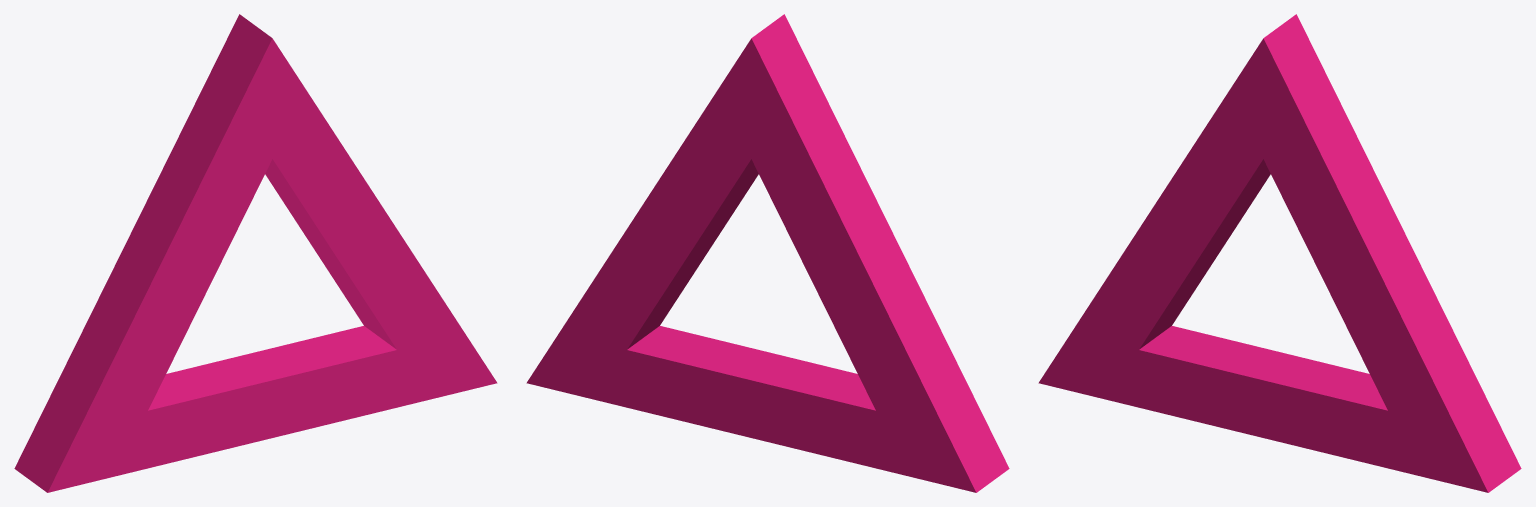
The model's file is triangle.glb.
The picture shows the model from 3 angles, left to right: view 1: azimuth 30°, elevation 25°; view 2: azimuth 150°, elevation 25°; view 3: azimuth 330°, elevation 25°; orthographic projection.
Visible parts, largest first — view 1: Boolean; view 2: Boolean; view 3: Boolean.
Part boxes in pixels (left/top/right/bottom): Boolean: left=14, top=14, right=497, bottom=492; Boolean: left=526, top=14, right=1009, bottom=492; Boolean: left=1038, top=14, right=1521, bottom=492.
Size of the model in its own units: 5.89 by 5 by 0.75.
